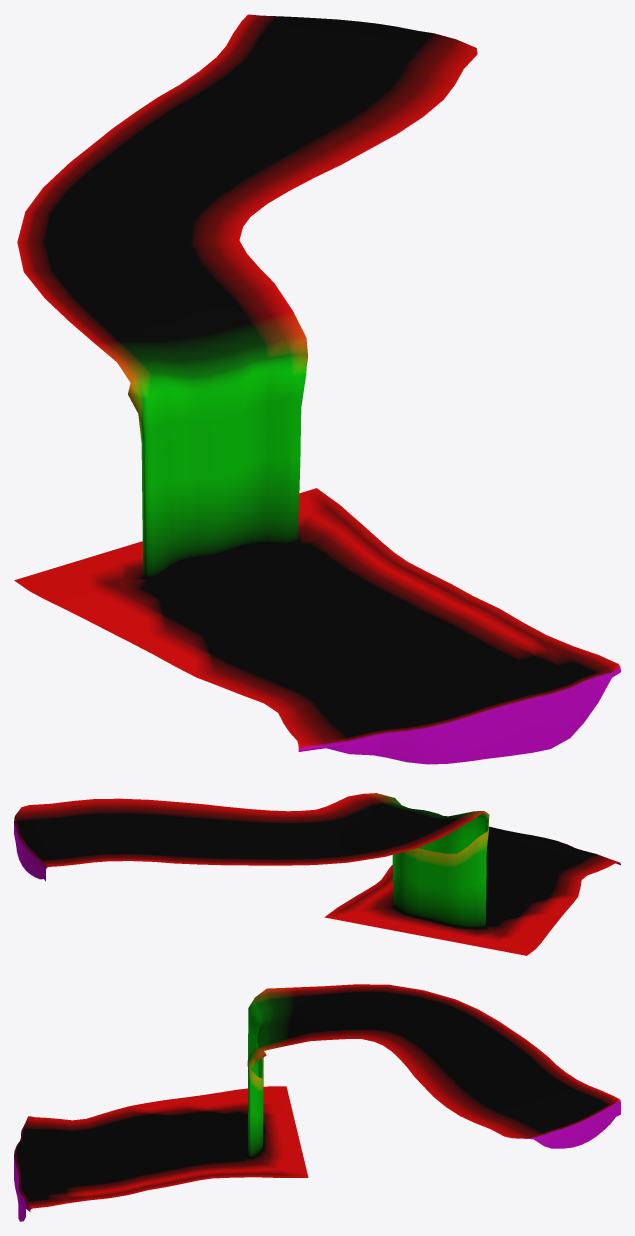
Rendered from Water.fbx.
3 views of the same model, one above another, from view 1: azimuth 30°, elevation 25°; view 2: azimuth 150°, elevation 25°; view 3: azimuth 270°, elevation 25° (orthographic). The views are drawn at different scales.
Parts seen in each view (by area): view 1: Water_Low; view 2: Water_Low; view 3: Water_Low.
Part boxes in pixels (x1,y1,x2,y2): Water_Low: (14,14,620,764); Water_Low: (14,793,620,955); Water_Low: (14,984,620,1221).
Bounding box in the file's own units: 65.59 × 29.35 × 89.88.
